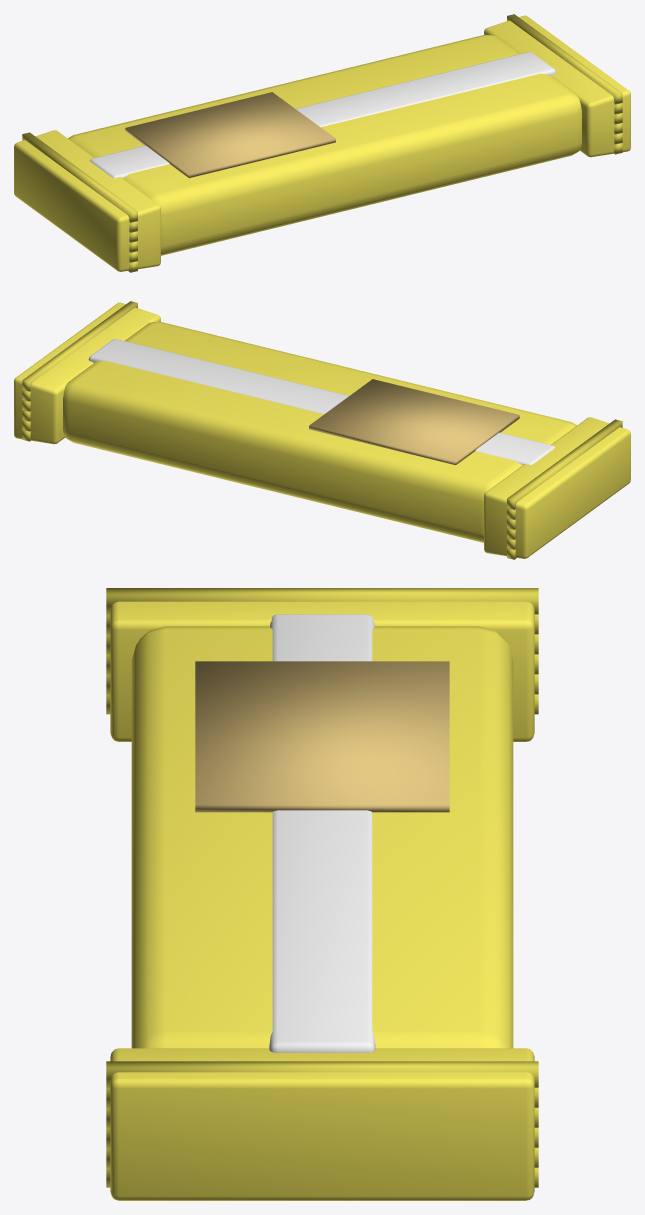
The model's file is SM_Kvikklunsj.glb.
3 renders of one model, top to bottom at view 1: azimuth 30°, elevation 25°; view 2: azimuth 150°, elevation 25°; view 3: azimuth 270°, elevation 25°, orthographic. The views are drawn at different scales.
Parts seen in each view (by area): view 1: SM_Kvikklunsj; view 2: SM_Kvikklunsj; view 3: SM_Kvikklunsj.
Boxes of the visible parts, <box> form: SM_Kvikklunsj: <box>14,14,630,272</box>; SM_Kvikklunsj: <box>14,301,630,559</box>; SM_Kvikklunsj: <box>106,588,538,1200</box>.
Bounding box in the file's own units: 0.14 × 0.0173 × 0.051.
